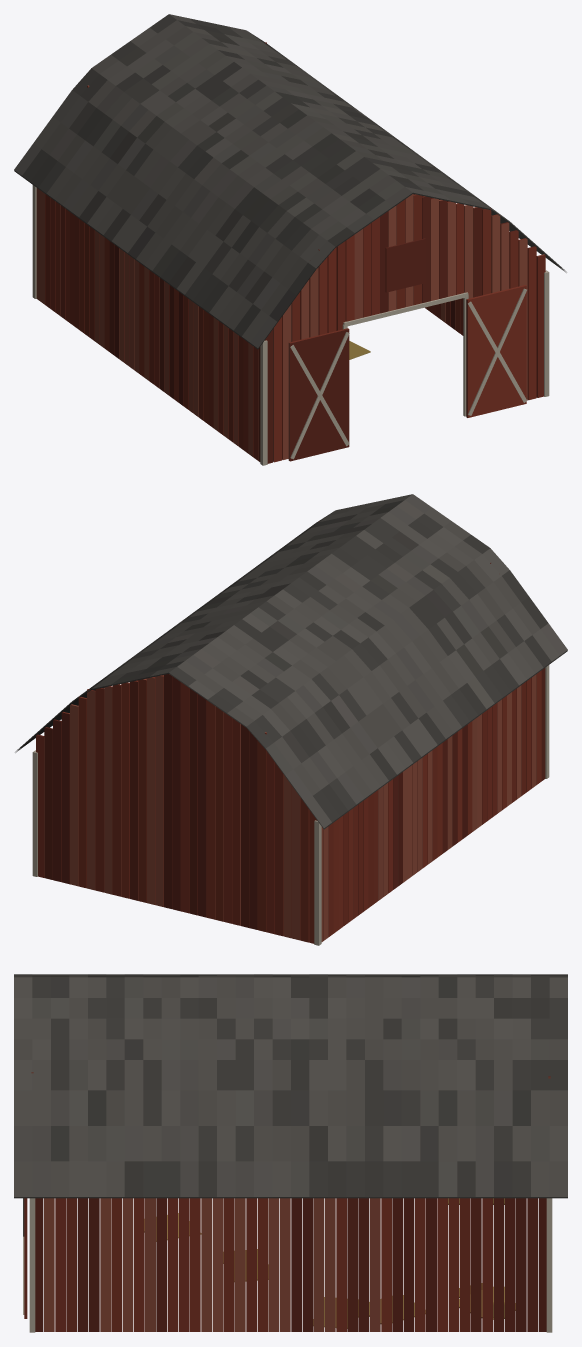
The model's file is barn.glb.
The picture shows the model from 3 angles, top to bottom: view 1: azimuth 30°, elevation 25°; view 2: azimuth 150°, elevation 25°; view 3: azimuth 270°, elevation 25°; orthographic projection. The views are drawn at different scales.
Visible parts, largest first — view 1: barn-roof, barn; view 2: barn, barn-roof; view 3: barn-roof, barn.
Boxes of the visible parts, bbox=[...] form: barn-roof: bbox=[14, 14, 566, 349]; barn: bbox=[32, 42, 549, 465]; barn: bbox=[32, 521, 549, 945]; barn-roof: bbox=[15, 494, 567, 829]; barn-roof: bbox=[14, 974, 567, 1198]; barn: bbox=[23, 1072, 552, 1332].
Size of the model in its own units: 11 by 8.25 by 15.
